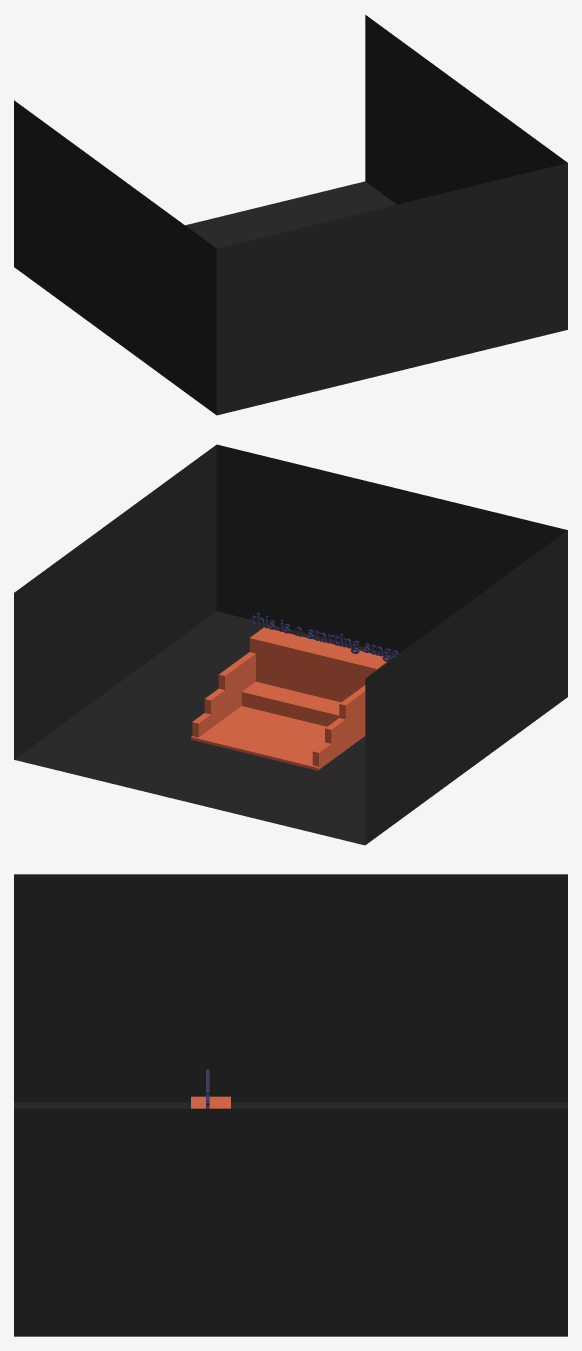
Rendered from starting-stage.glb.
3 renders of one model, top to bottom at view 1: azimuth 30°, elevation 25°; view 2: azimuth 150°, elevation 25°; view 3: azimuth 270°, elevation 25°, orthographic. The views are drawn at different scales.
Visible parts, largest first — view 1: Plane; view 2: Plane, Cube, Text; view 3: Plane.
Part boxes in pixels (x1,y1,x2,y2): Plane: [14, 15, 567, 415]; Plane: [14, 444, 567, 845]; Cube: [191, 627, 388, 770]; Text: [250, 612, 398, 661]; Plane: [14, 874, 567, 1336].
Bounding box in the file's own units: 7.76 × 3.58 × 7.76.
